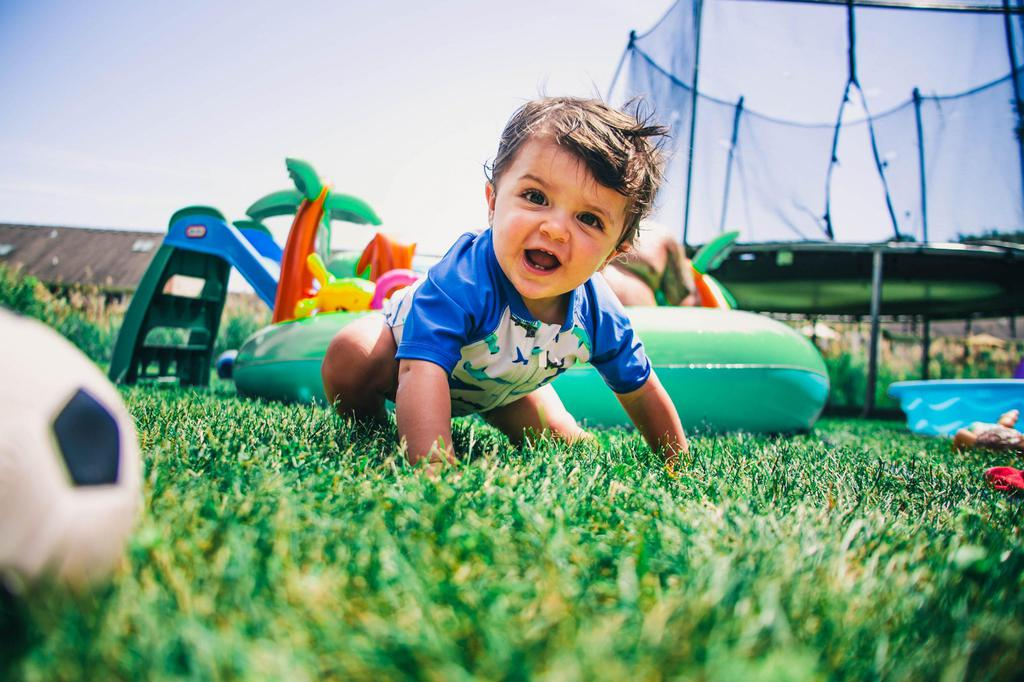child: (310, 71, 705, 474)
